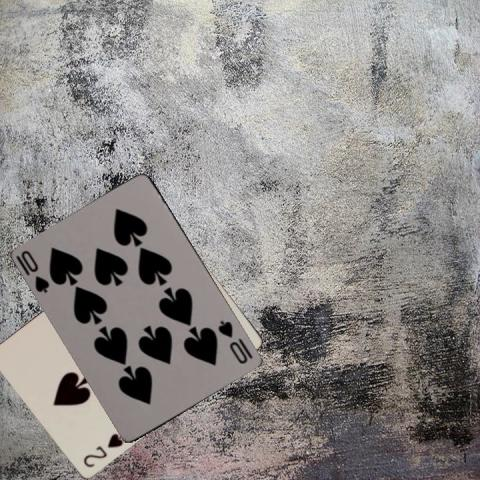10s: (216, 318, 250, 365), (19, 247, 51, 295)
2s: (80, 429, 125, 469)
